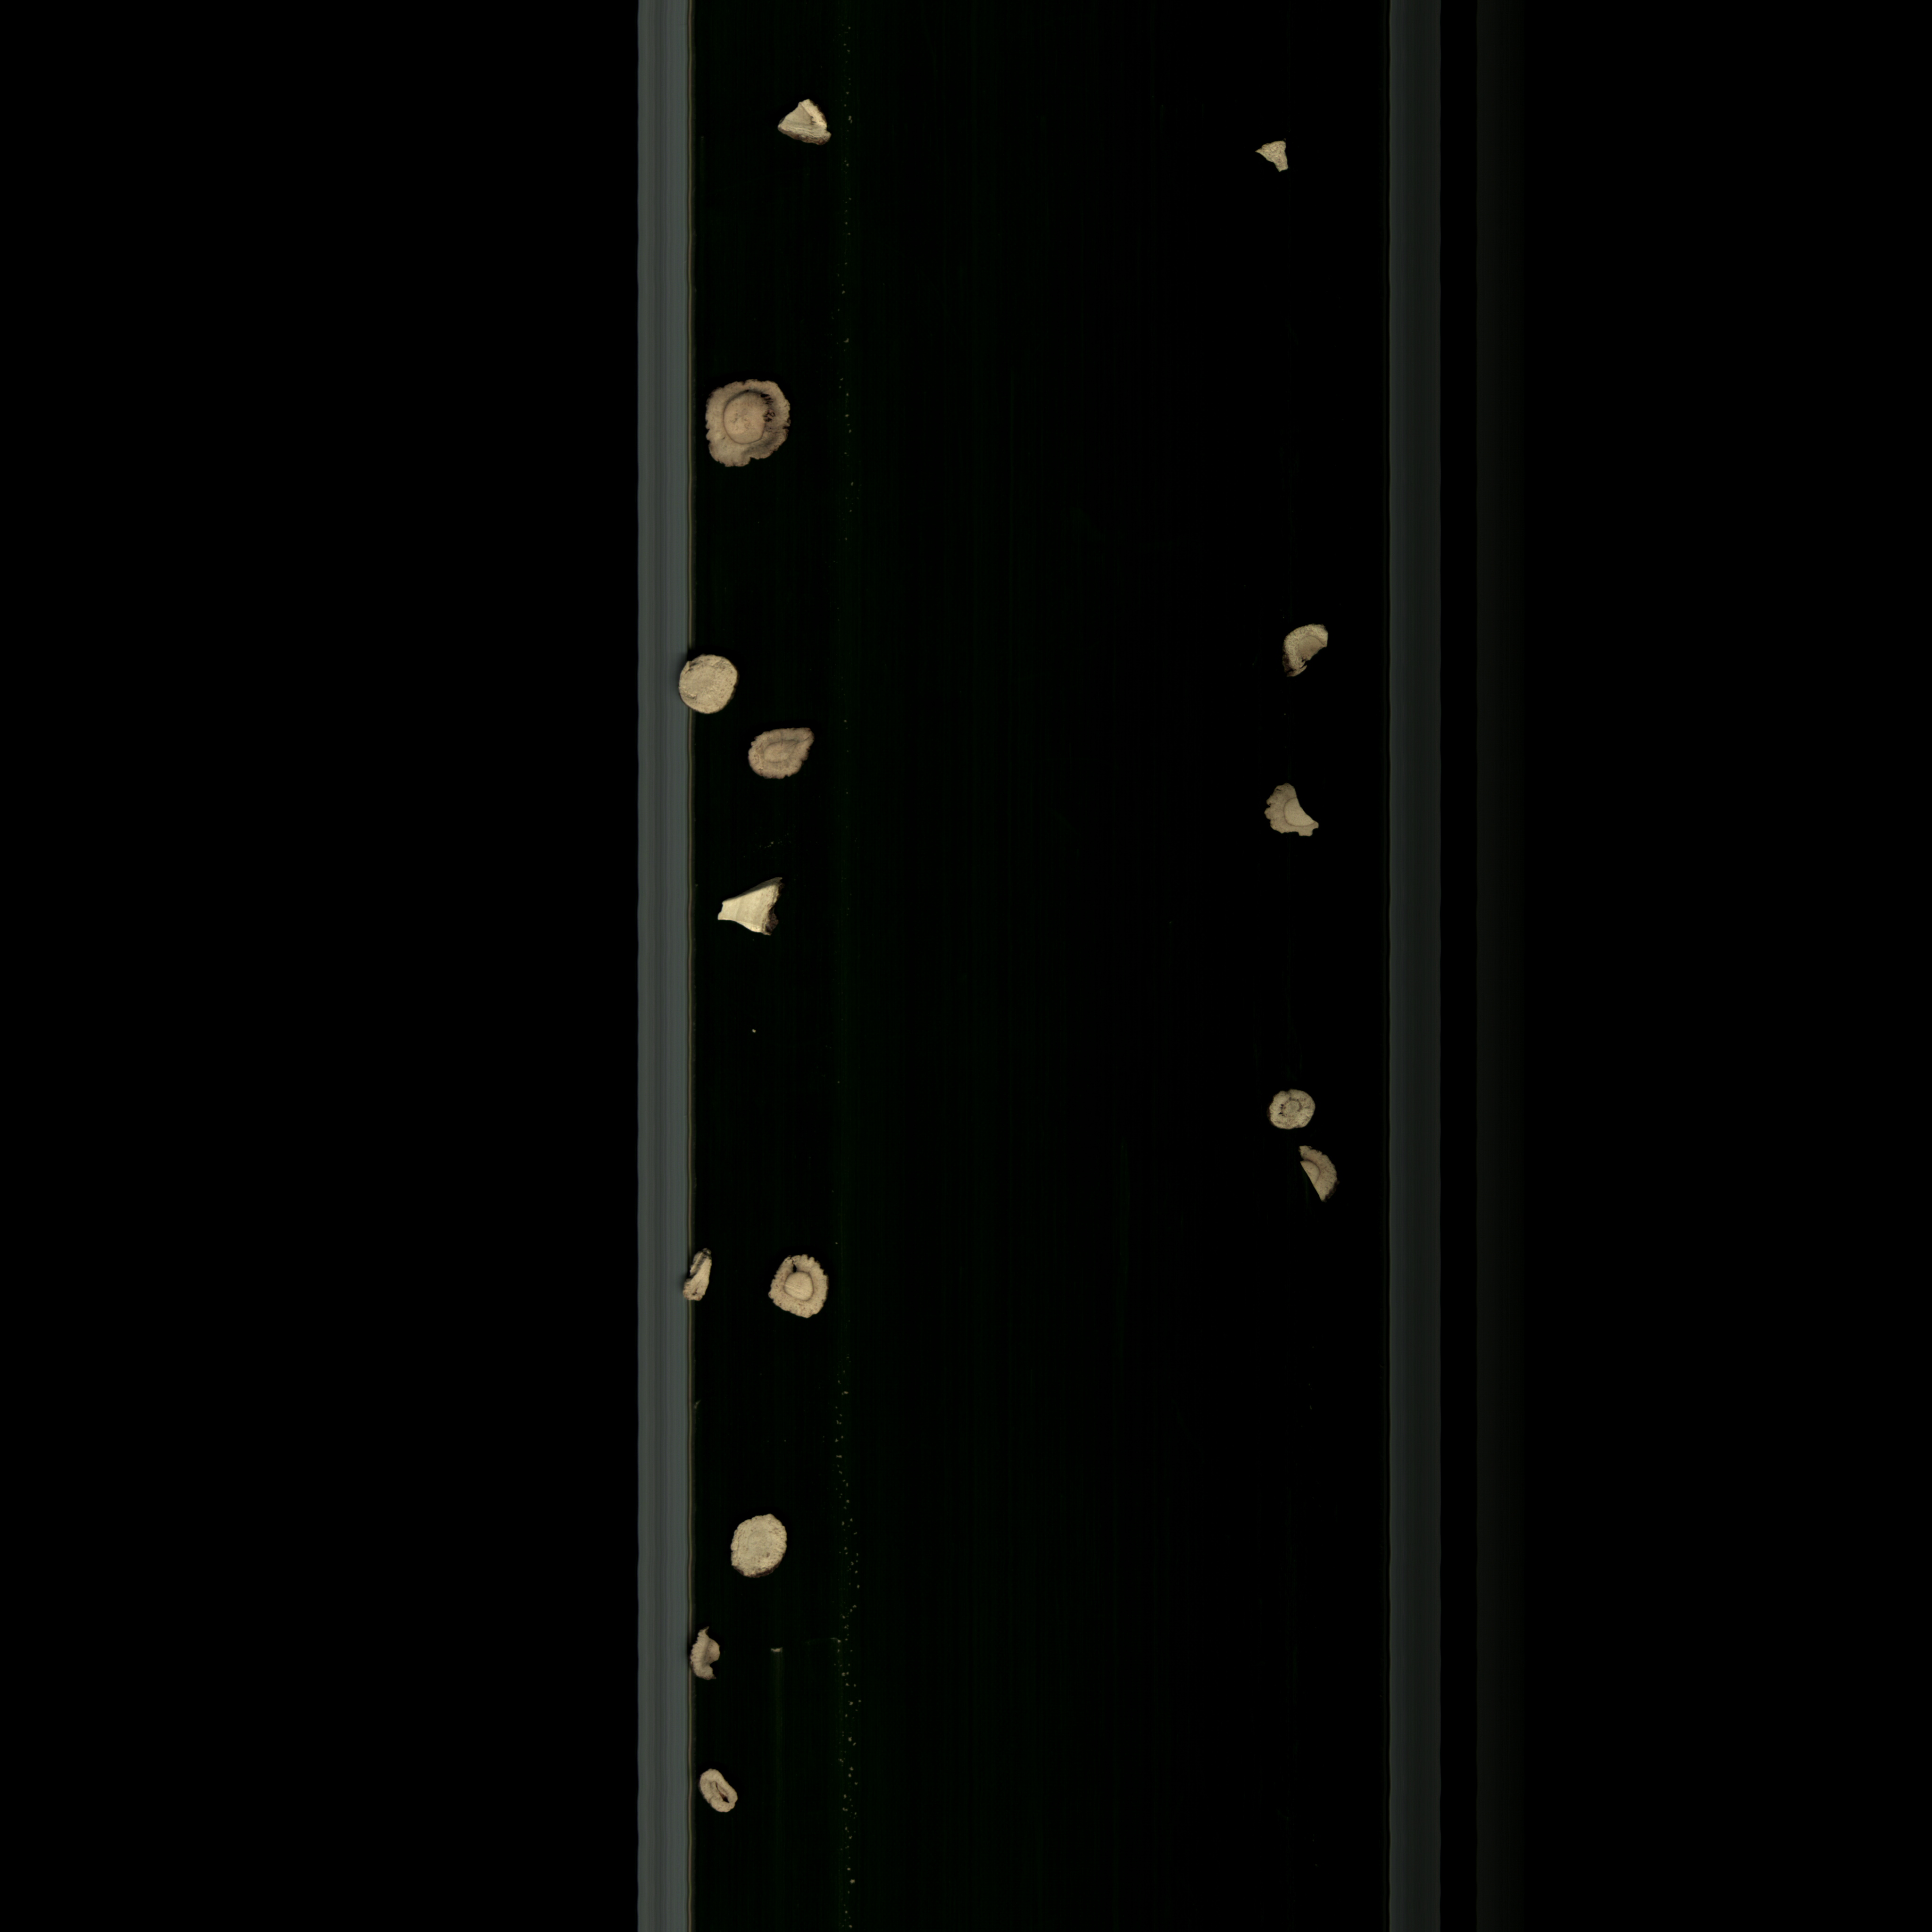debris: (708, 876, 801, 952), (1256, 775, 1339, 849), (764, 83, 844, 157), (679, 1242, 722, 1313)
distortion: (743, 722, 821, 789)
dreg: (1276, 616, 1336, 686), (1253, 134, 1300, 177)
hole: (754, 1242, 835, 1329), (697, 1760, 743, 1821)
moldy: (697, 372, 814, 481), (1286, 1143, 1348, 1214), (1258, 1083, 1325, 1138), (685, 1622, 731, 1688)
